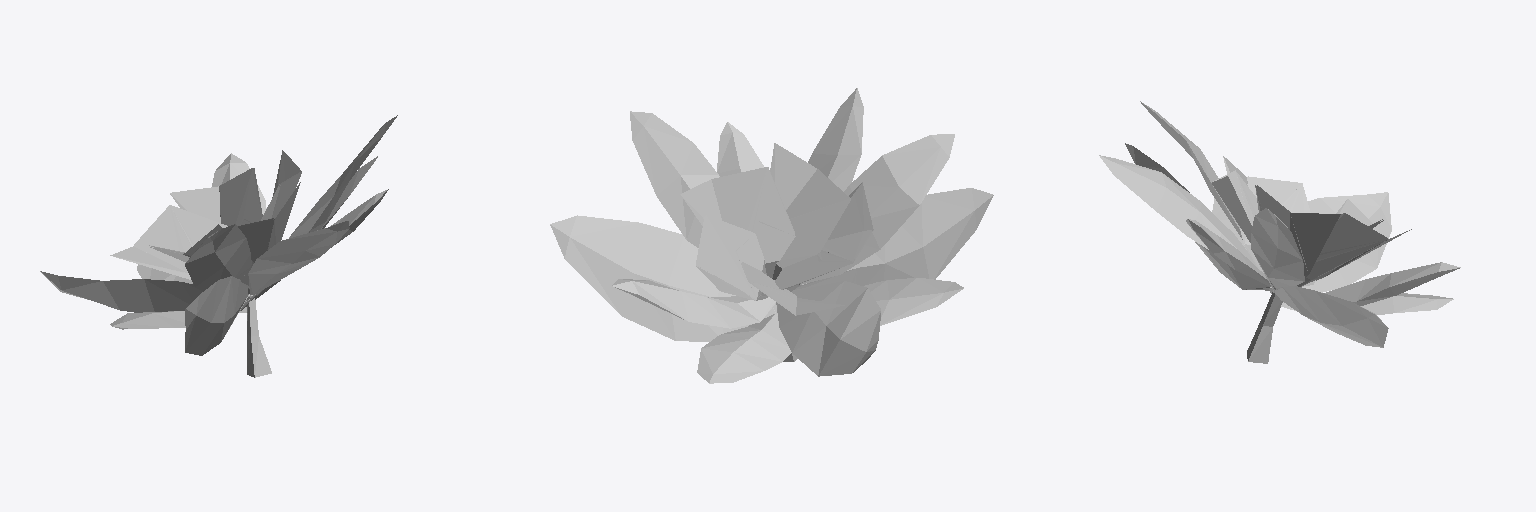
The model's file is aloe.obj.
The picture shows the model from 3 angles: view 1: azimuth 30°, elevation 25°; view 2: azimuth 150°, elevation 25°; view 3: azimuth 270°, elevation 25°; orthographic projection.
Parts seen in each view (by area): view 1: Object.1, Object.2; view 2: Object.1, Object.2; view 3: Object.1, Object.2.
Part boxes in pixels (x1,y1,x2,y2): Object.1: (40, 115, 397, 377); Object.2: (248, 221, 349, 294); Object.1: (550, 111, 993, 383); Object.2: (808, 88, 863, 191); Object.1: (1125, 101, 1460, 363); Object.2: (1099, 155, 1257, 267).
Size of the model in its own units: 0.5116 by 0.3116 by 0.4711.